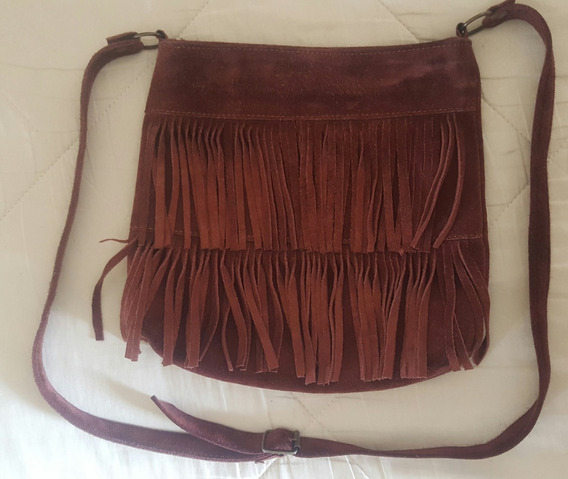cartera: (29, 3, 565, 465)
gamuza: (128, 38, 482, 379)
